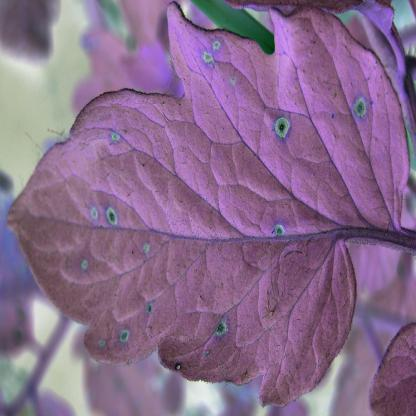Tomato leaf late blight: (5, 1, 408, 399)
